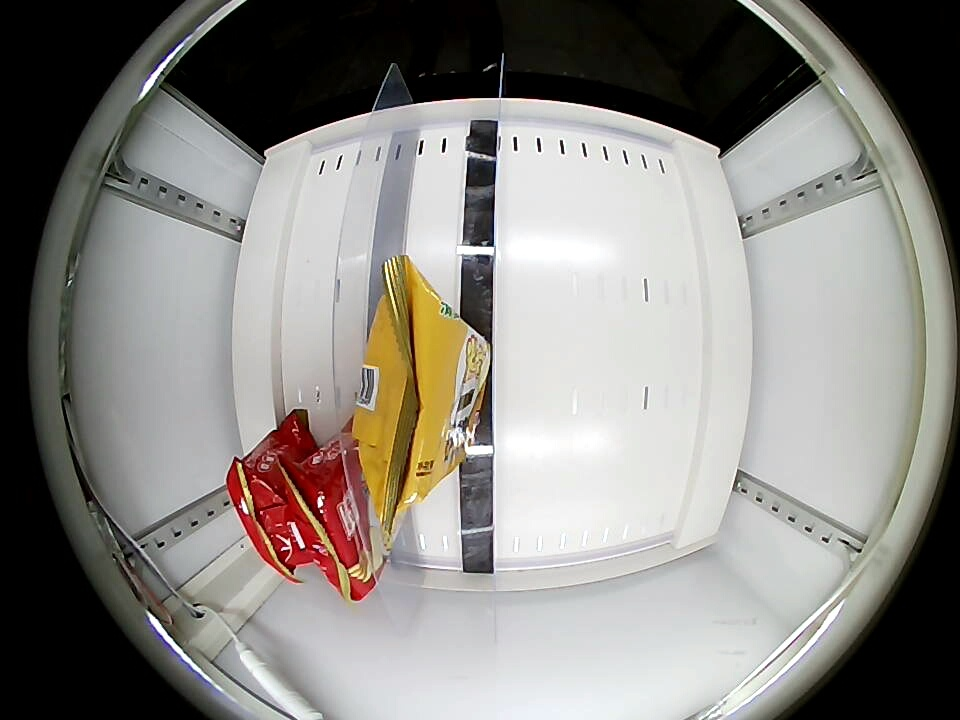kaomo_gali: (358, 268, 490, 505)
kaomo_shaokao: (286, 452, 383, 596), (229, 427, 300, 576)
